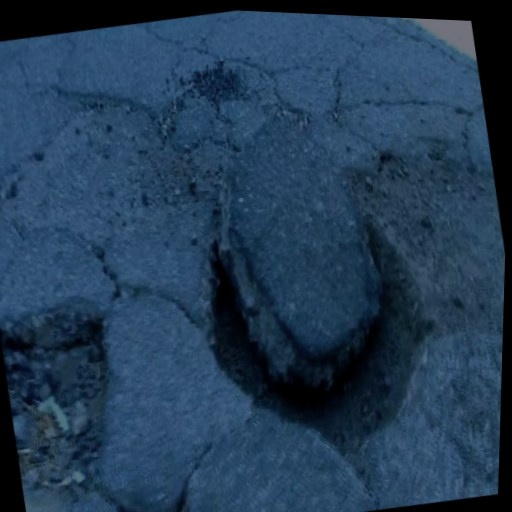pothole: (179, 169, 459, 488), (0, 293, 142, 512)
